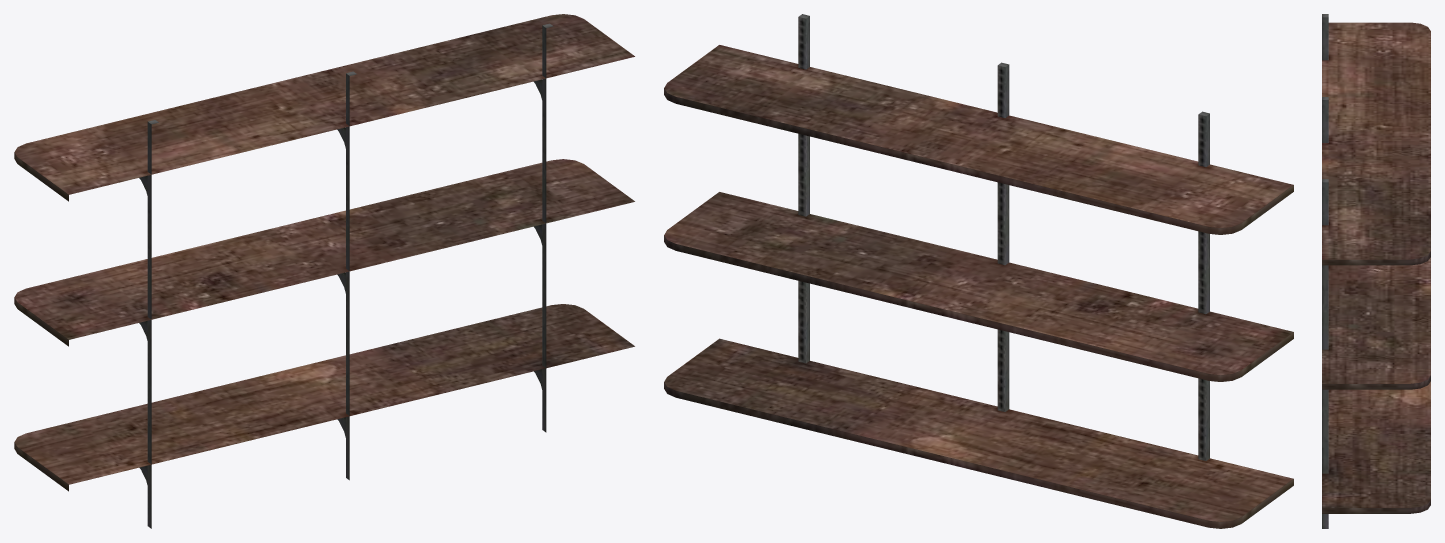
Rendered from shelves.glb.
3 renders of one model, left to right at view 1: azimuth 30°, elevation 25°; view 2: azimuth 150°, elevation 25°; view 3: azimuth 270°, elevation 25°, orthographic. The views are drawn at different scales.
Visible parts, largest first — view 1: 0_shelves; view 2: 0_shelves; view 3: 0_shelves.
Part boxes in pixels (bbox=[...]): 0_shelves: bbox=[14, 14, 634, 528]; 0_shelves: bbox=[664, 14, 1293, 528]; 0_shelves: bbox=[1322, 14, 1430, 528].
Size of the model in its own units: 2.09 by 1.42 by 0.4045.
1 material, 1 textured.
